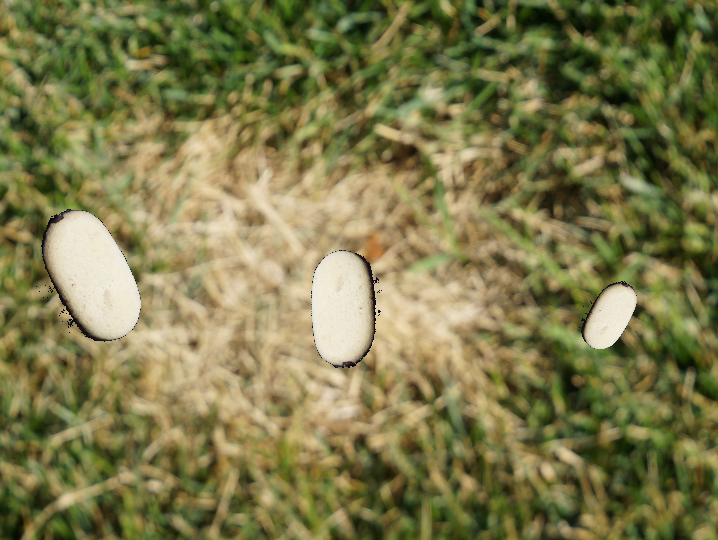test: (15, 200, 160, 351), (273, 236, 418, 382), (567, 274, 649, 354)
